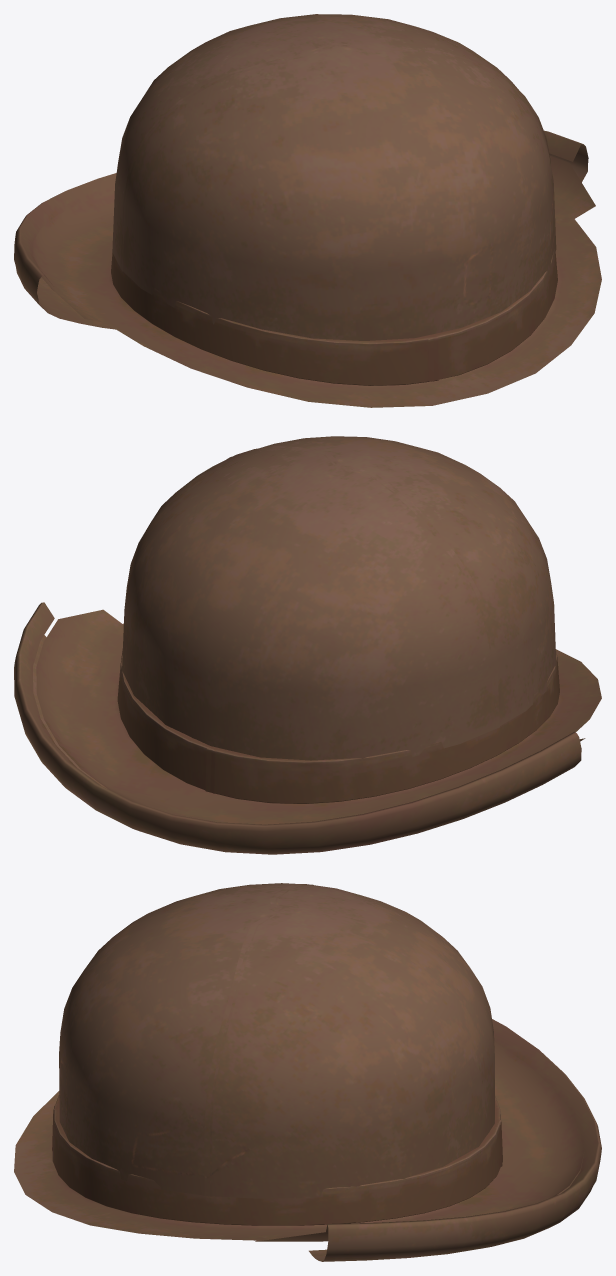
Rendered from jungbrown.fbx.
The picture shows the model from 3 angles, top to bottom: view 1: azimuth 30°, elevation 25°; view 2: azimuth 150°, elevation 25°; view 3: azimuth 270°, elevation 25°; orthographic projection. The views are drawn at different scales.
Parts seen in each view (by area): view 1: node_id5; view 2: node_id5; view 3: node_id5.
Part boxes in pixels (x1,y1,x2,y2): node_id5: [14, 14, 601, 407]; node_id5: [14, 436, 601, 854]; node_id5: [14, 883, 601, 1261].
Size of the model in its own units: 0.512 by 0.2453 by 0.4824.
Materials: 1 (1 with a texture image).
